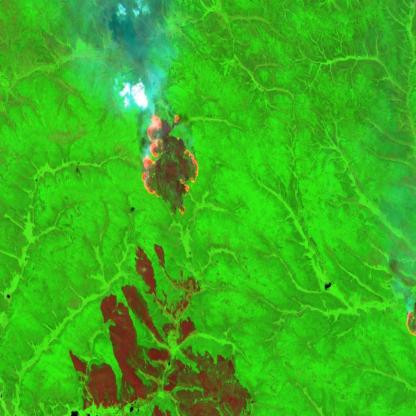fire: (141, 112, 201, 216), (403, 308, 416, 343)
